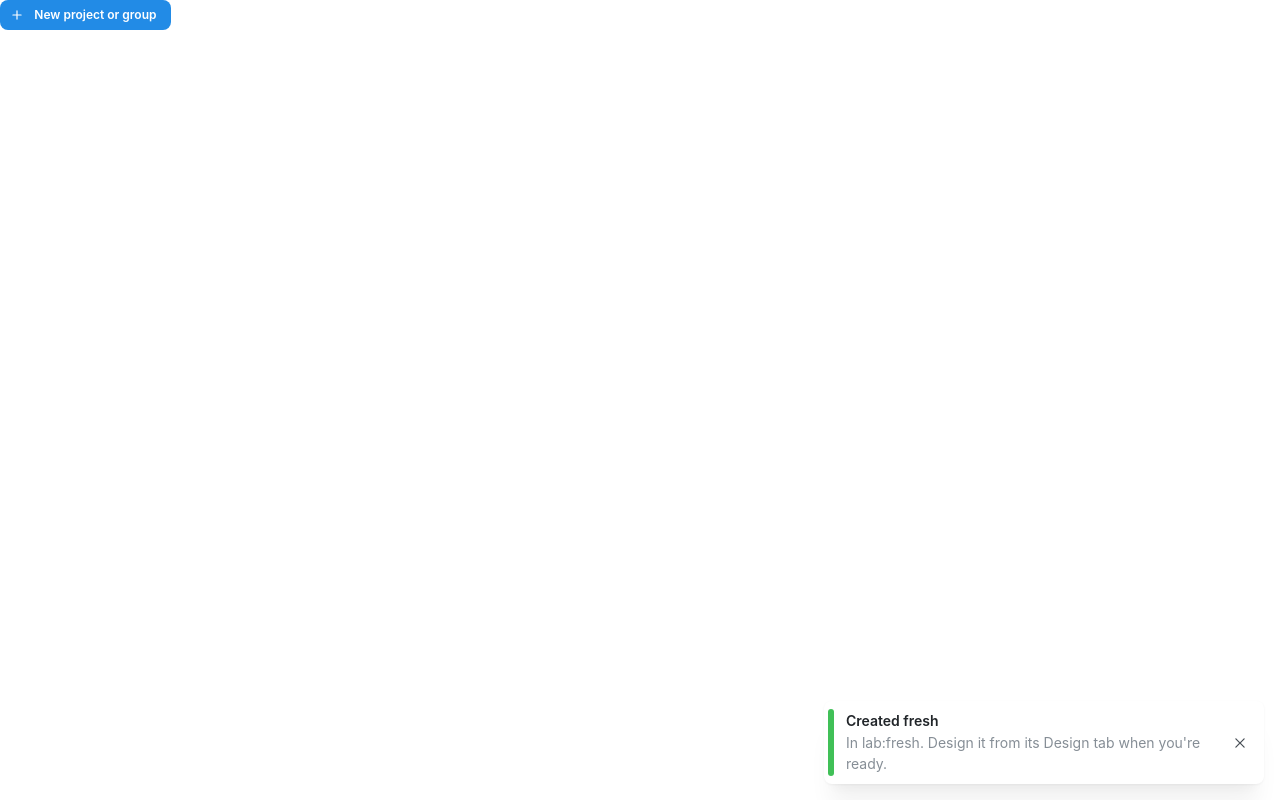
it: NewProject › refuses a bad or taken name
The image size is (1280, 800).
Click the button "New project or group" at (86, 15), box [0,0,172,30]
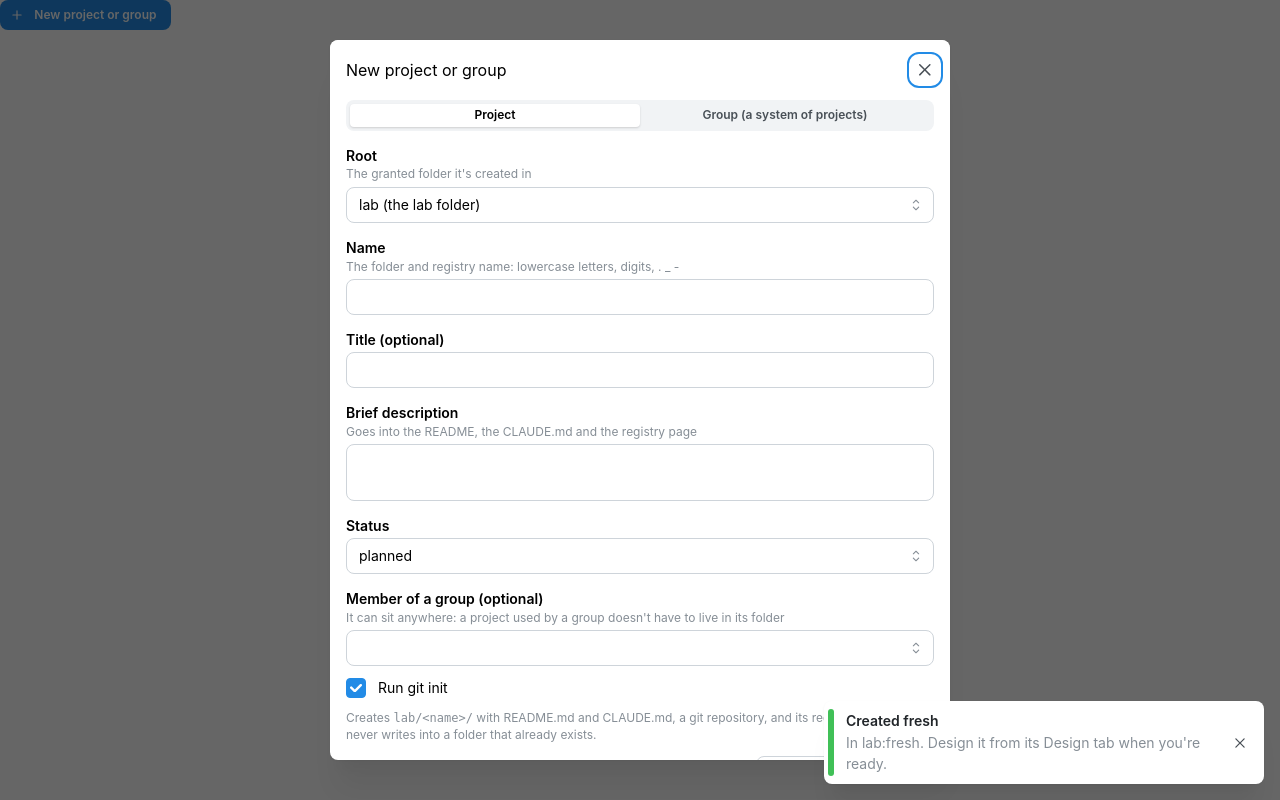
Type "Bad Name" into the field labelled "Name" at (640, 297), box [346,279,934,315]
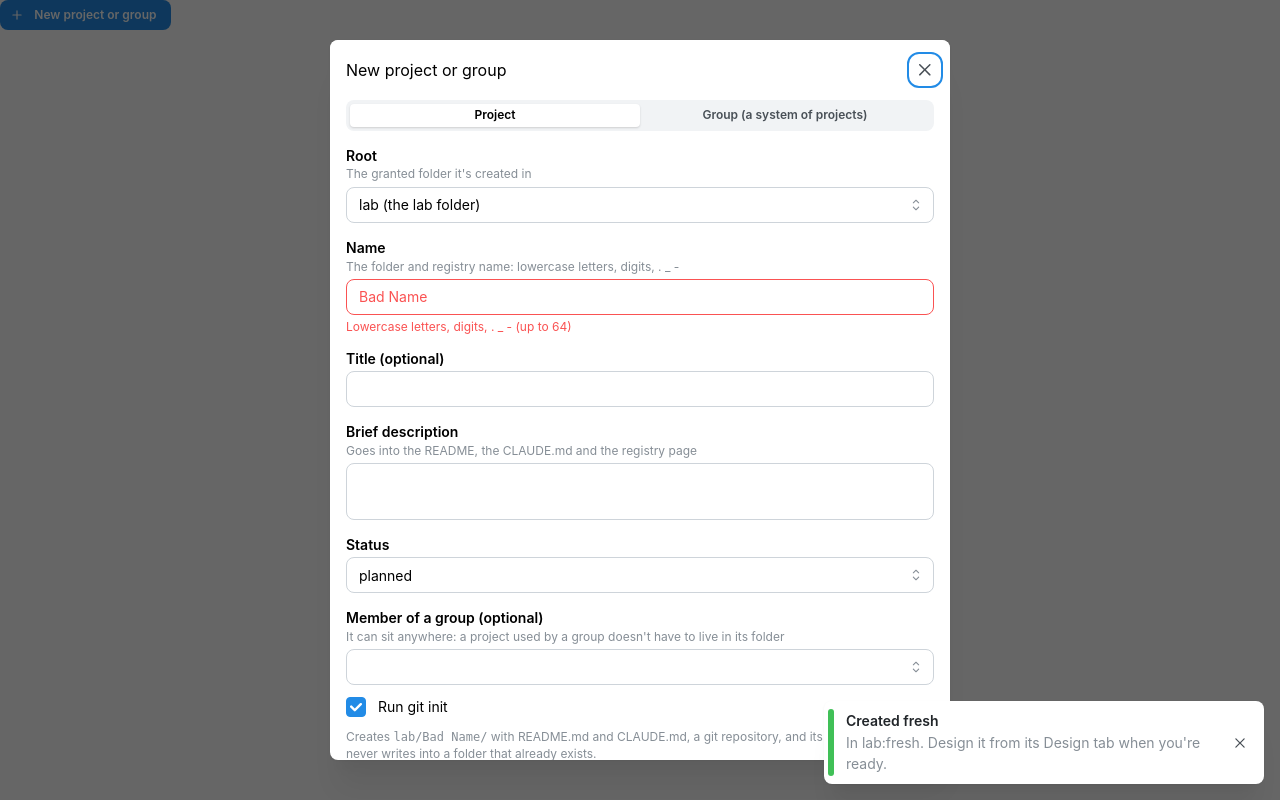
Now the text "Lowercase letters, digits, . _ - (up to 64)" is shown, box [346,319,572,334]
Replace the text in the field labelled "Name" with "taken" at (640, 297), box [346,279,934,315]
(page scrolled)
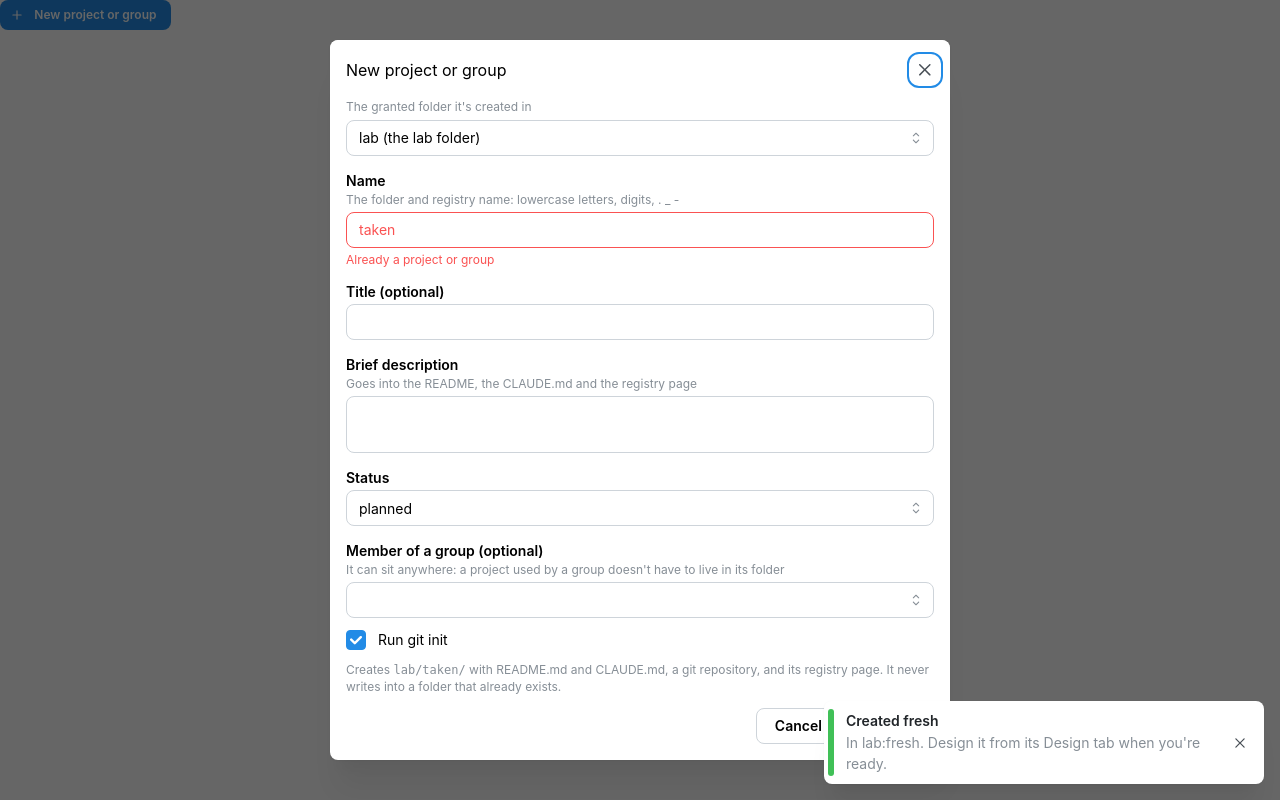
Expected: the button "Create" is disabled, [851,708,934,744]
Now the text "Already a project or group" is shown, box [346,252,494,267]
